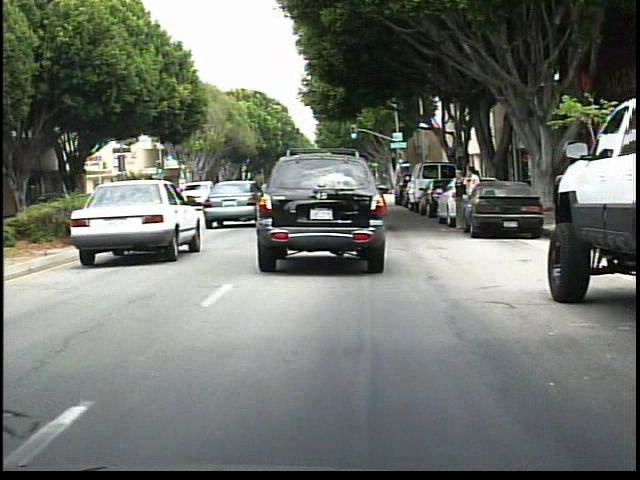person: (450, 167, 470, 235), (464, 164, 484, 229)
